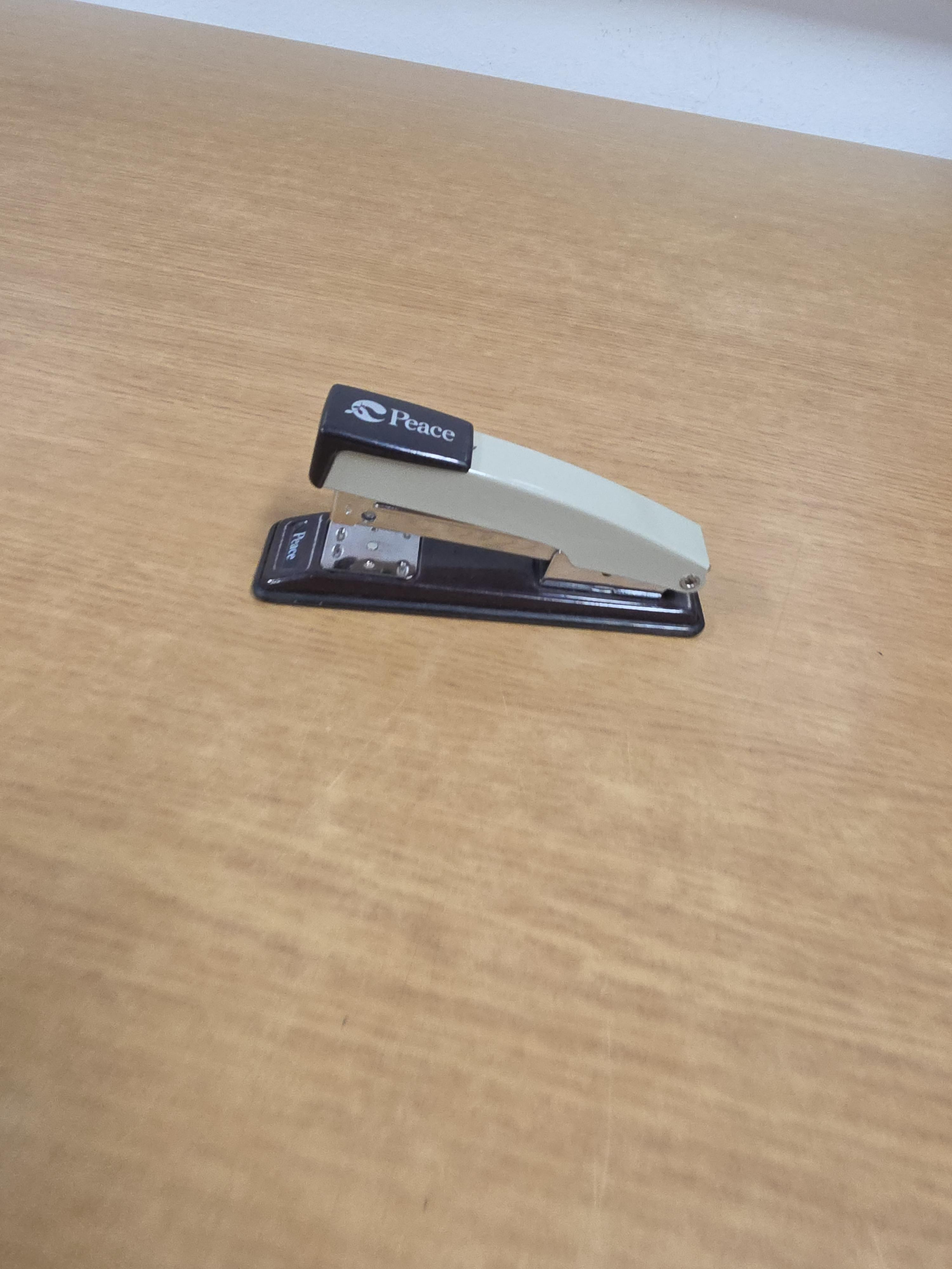stapler: (250, 384, 711, 638)
